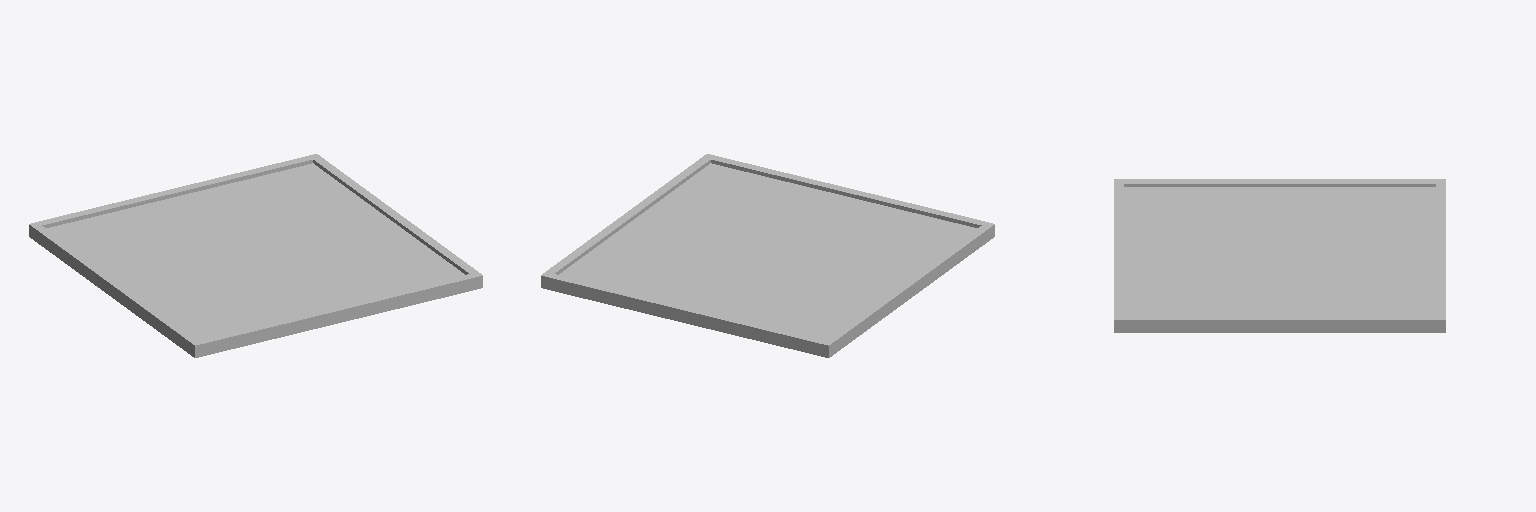
Rendered from table.mtl.obj.
The picture shows the model from 3 angles: view 1: azimuth 30°, elevation 25°; view 2: azimuth 150°, elevation 25°; view 3: azimuth 270°, elevation 25°; orthographic projection.
Visible parts, largest first — view 1: table; view 2: table; view 3: table.
Part boxes in pixels (x1,y1,x2,y2): table: (29,154,482,357); table: (541,154,994,357); table: (1114,179,1445,332).
Size of the model in its own units: 12 by 0.5 by 12.